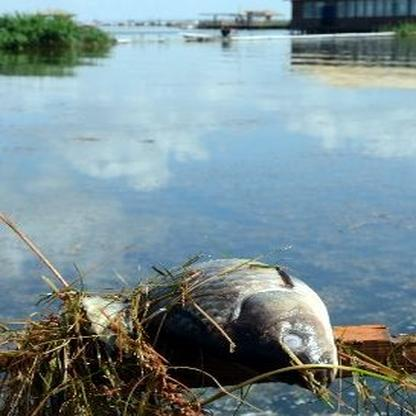deceased fish: (140, 250, 337, 390)
